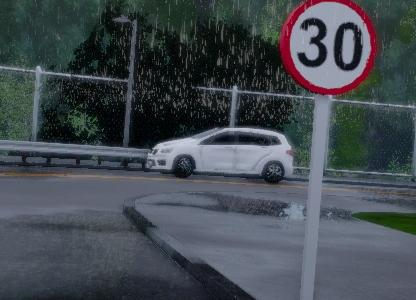Speed_30: (280, 0, 379, 93)
